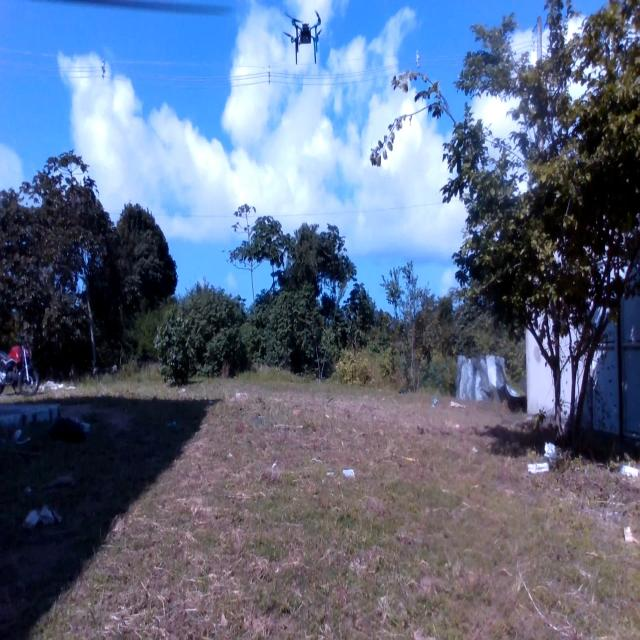-uav-: (275, 3, 333, 77)
